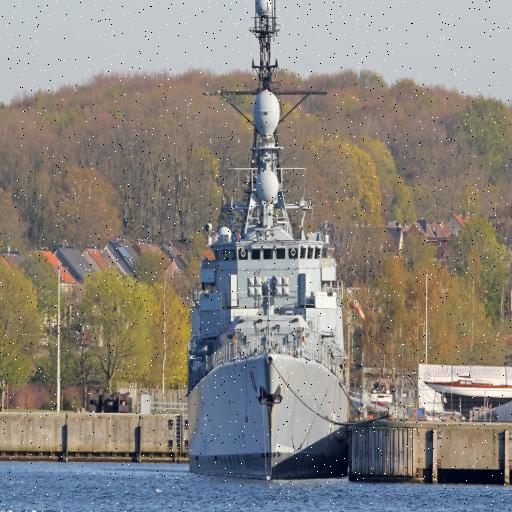Fragata: (185, 1, 353, 485)
